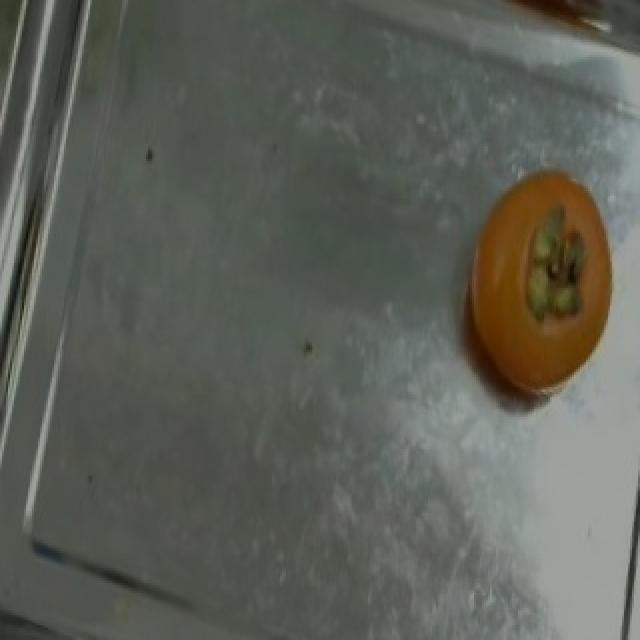Fruit: (450, 146, 634, 412)
